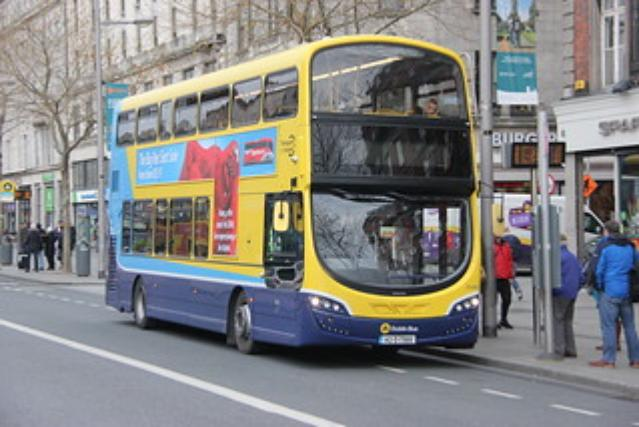bus: (104, 34, 484, 357)
